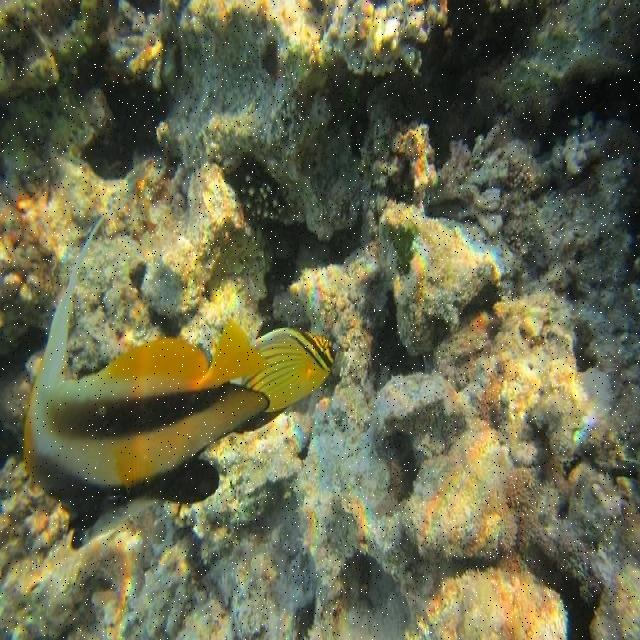fish: (25, 219, 291, 552), (241, 330, 344, 411)
